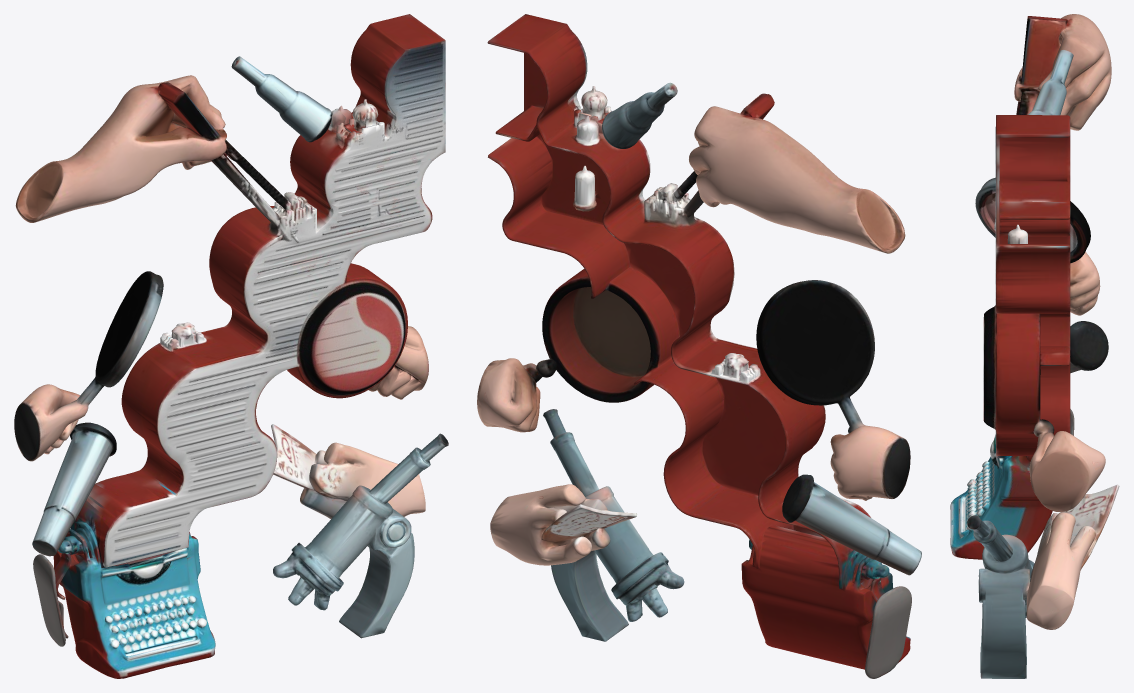
The model's file is 传播价值3.web.glb.
3 renders of one model, left to right at view 1: azimuth 30°, elevation 25°; view 2: azimuth 150°, elevation 25°; view 3: azimuth 270°, elevation 25°, orthographic. The views are drawn at different scales.
Visible parts, largest first — view 1: Object_4; view 2: Object_4; view 3: Object_4.
Boxes of the visible parts, bbox=[...] form: Object_4: bbox=[14, 14, 448, 678]; Object_4: bbox=[477, 14, 921, 678]; Object_4: bbox=[950, 14, 1119, 678].
Bounding box in the file's own units: 0.7024 × 0.9653 × 0.2558.
1 material, 1 textured.
